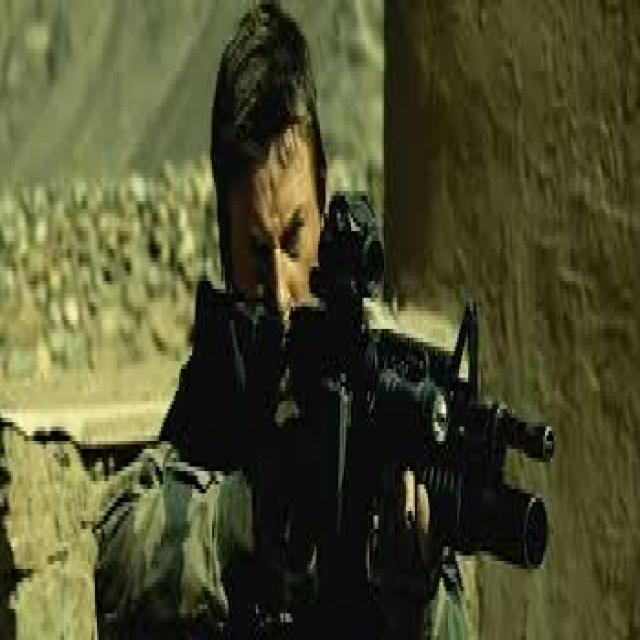weapon: (190, 204, 560, 640)
